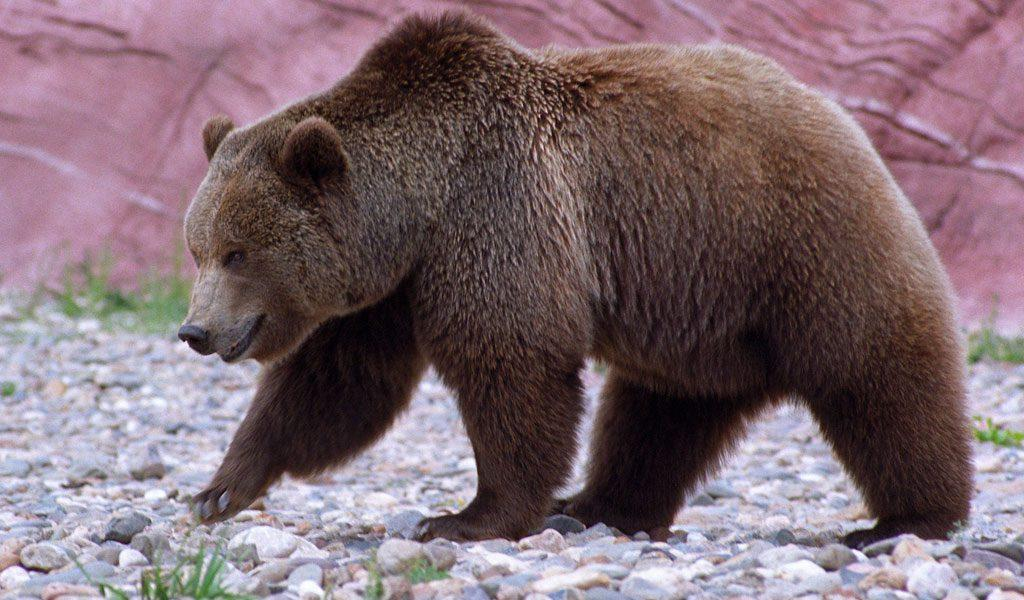ball: (180, 13, 972, 542)
